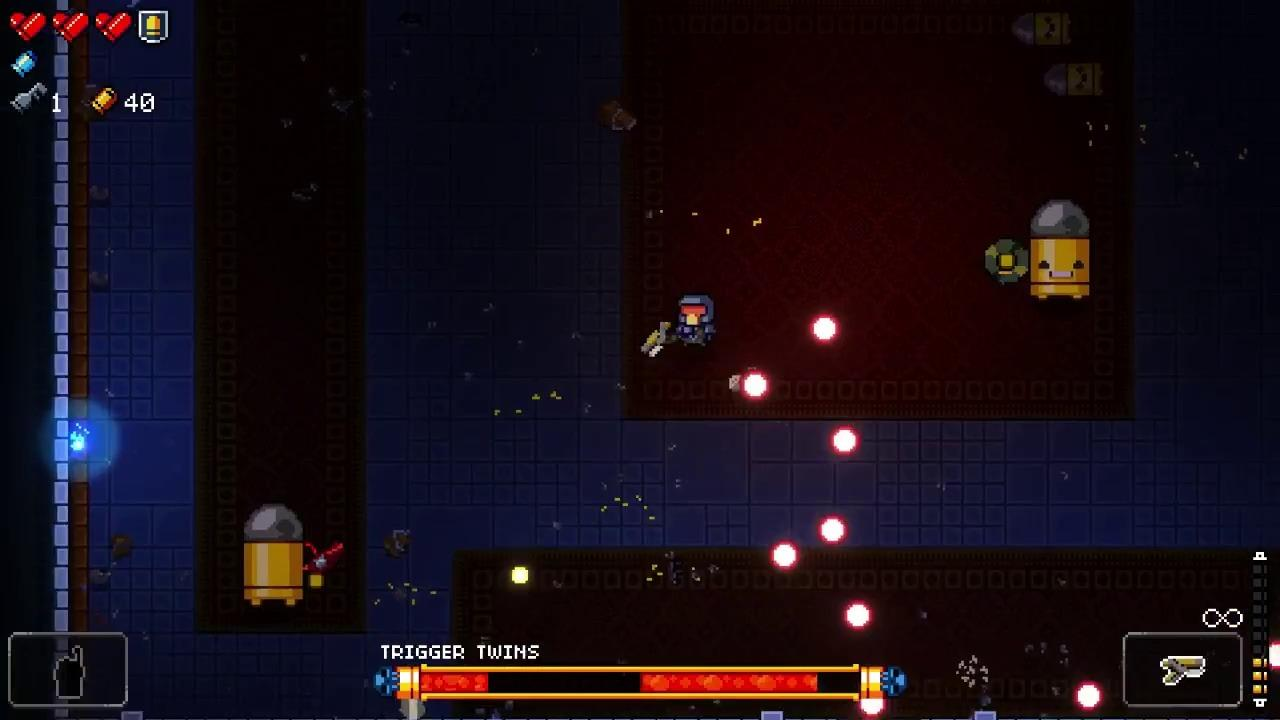boss_shades: (244, 502, 302, 609)
boss_smiley: (1031, 200, 1090, 304)
bullet: (1072, 680, 1103, 712), (818, 514, 848, 546), (743, 371, 772, 404), (810, 313, 839, 345), (770, 541, 800, 571), (830, 423, 858, 455), (843, 602, 873, 631), (861, 696, 886, 717)
dead_bullet_kin: (1007, 10, 1071, 45), (1043, 65, 1104, 97)
player: (675, 294, 715, 350)
